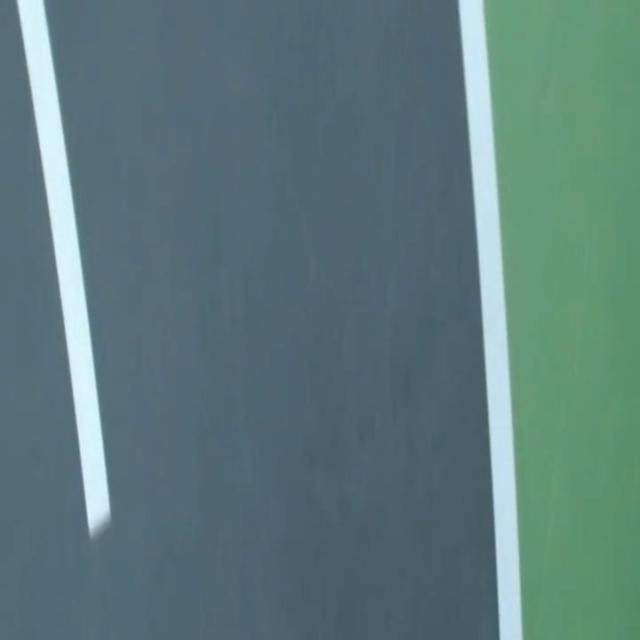center: (17, 0, 109, 537)
right: (458, 0, 522, 639)
